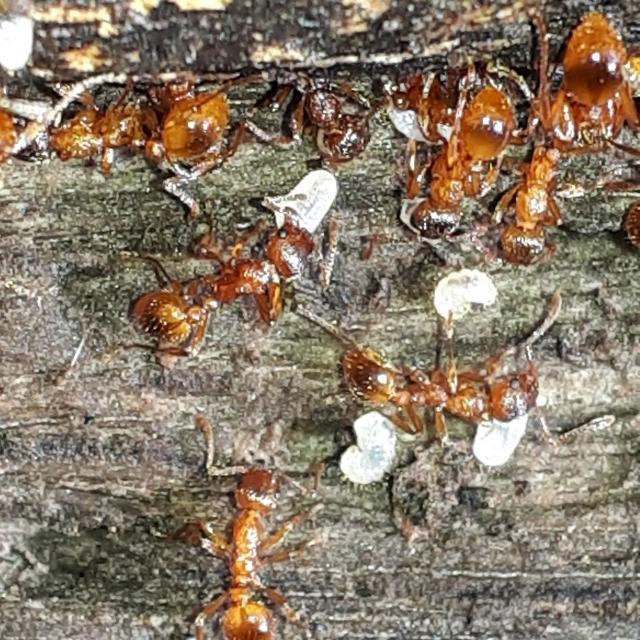Myrmica: (340, 314, 590, 460), (21, 62, 238, 196), (384, 73, 526, 251), (124, 225, 306, 362), (192, 453, 314, 639), (462, 123, 584, 287), (257, 48, 385, 172), (534, 26, 624, 140), (383, 46, 469, 132), (601, 169, 639, 265)
